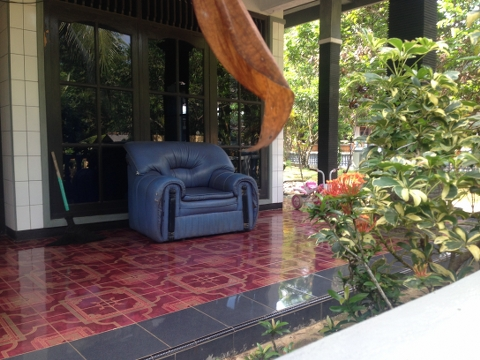kursi: (125, 141, 259, 242)
